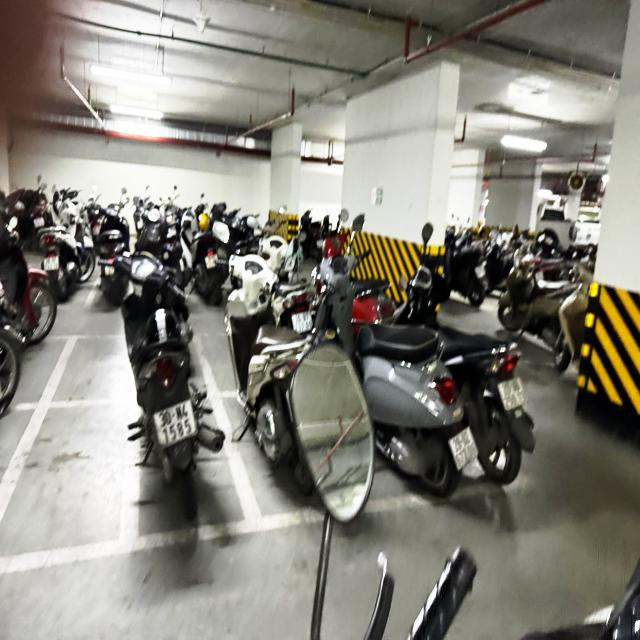license_plate: (148, 394, 202, 456)
